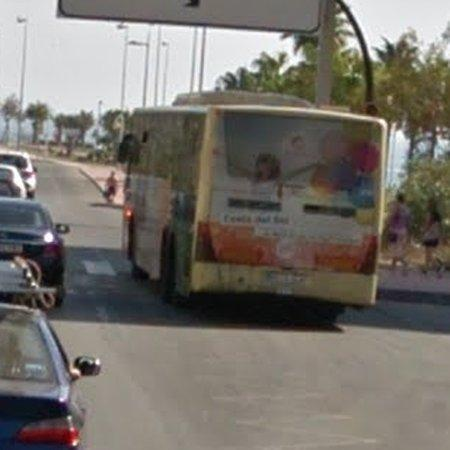buses: (120, 105, 387, 306)
